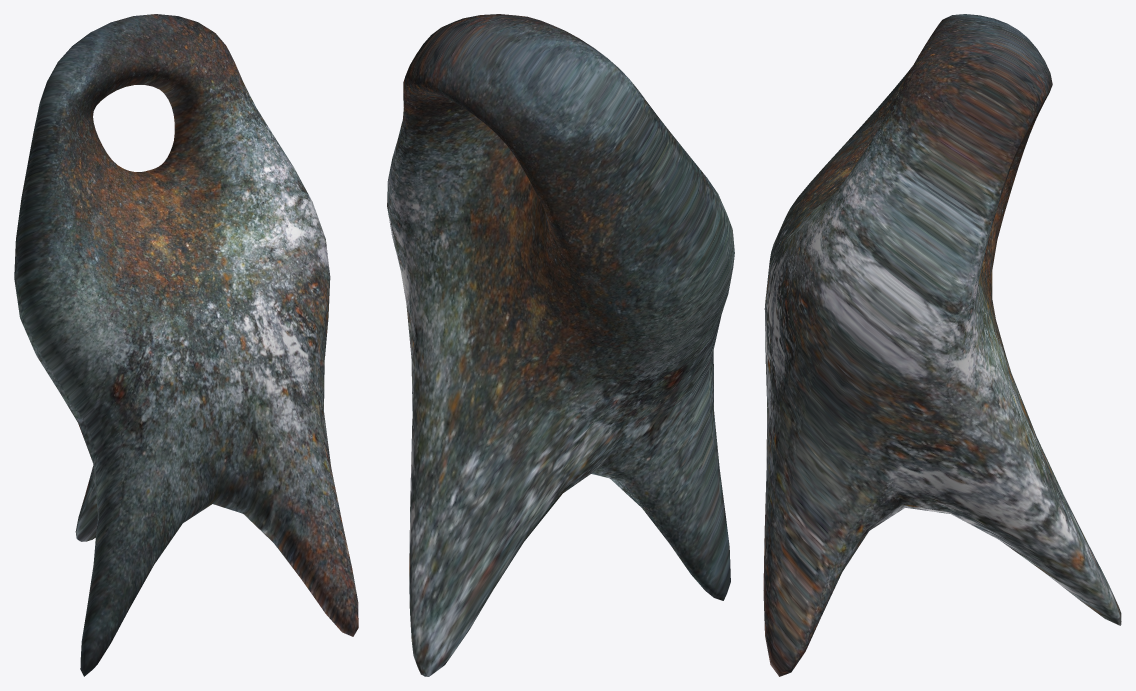
The model's file is SM_Sculpture00.fbx.
3 renders of one model, left to right at view 1: azimuth 30°, elevation 25°; view 2: azimuth 150°, elevation 25°; view 3: azimuth 270°, elevation 25°, orthographic. The views are drawn at different scales.
Visible parts, largest first — view 1: SM_Sculpture00; view 2: SM_Sculpture00; view 3: SM_Sculpture00.
Boxes of the visible parts, x1=… form: SM_Sculpture00: x1=14, y1=14, x2=358, y2=676; SM_Sculpture00: x1=387, y1=14, x2=734, y2=676; SM_Sculpture00: x1=763, y1=14, x2=1121, y2=676.
Size of the model in its own units: 29.3 by 54.61 by 30.17.
